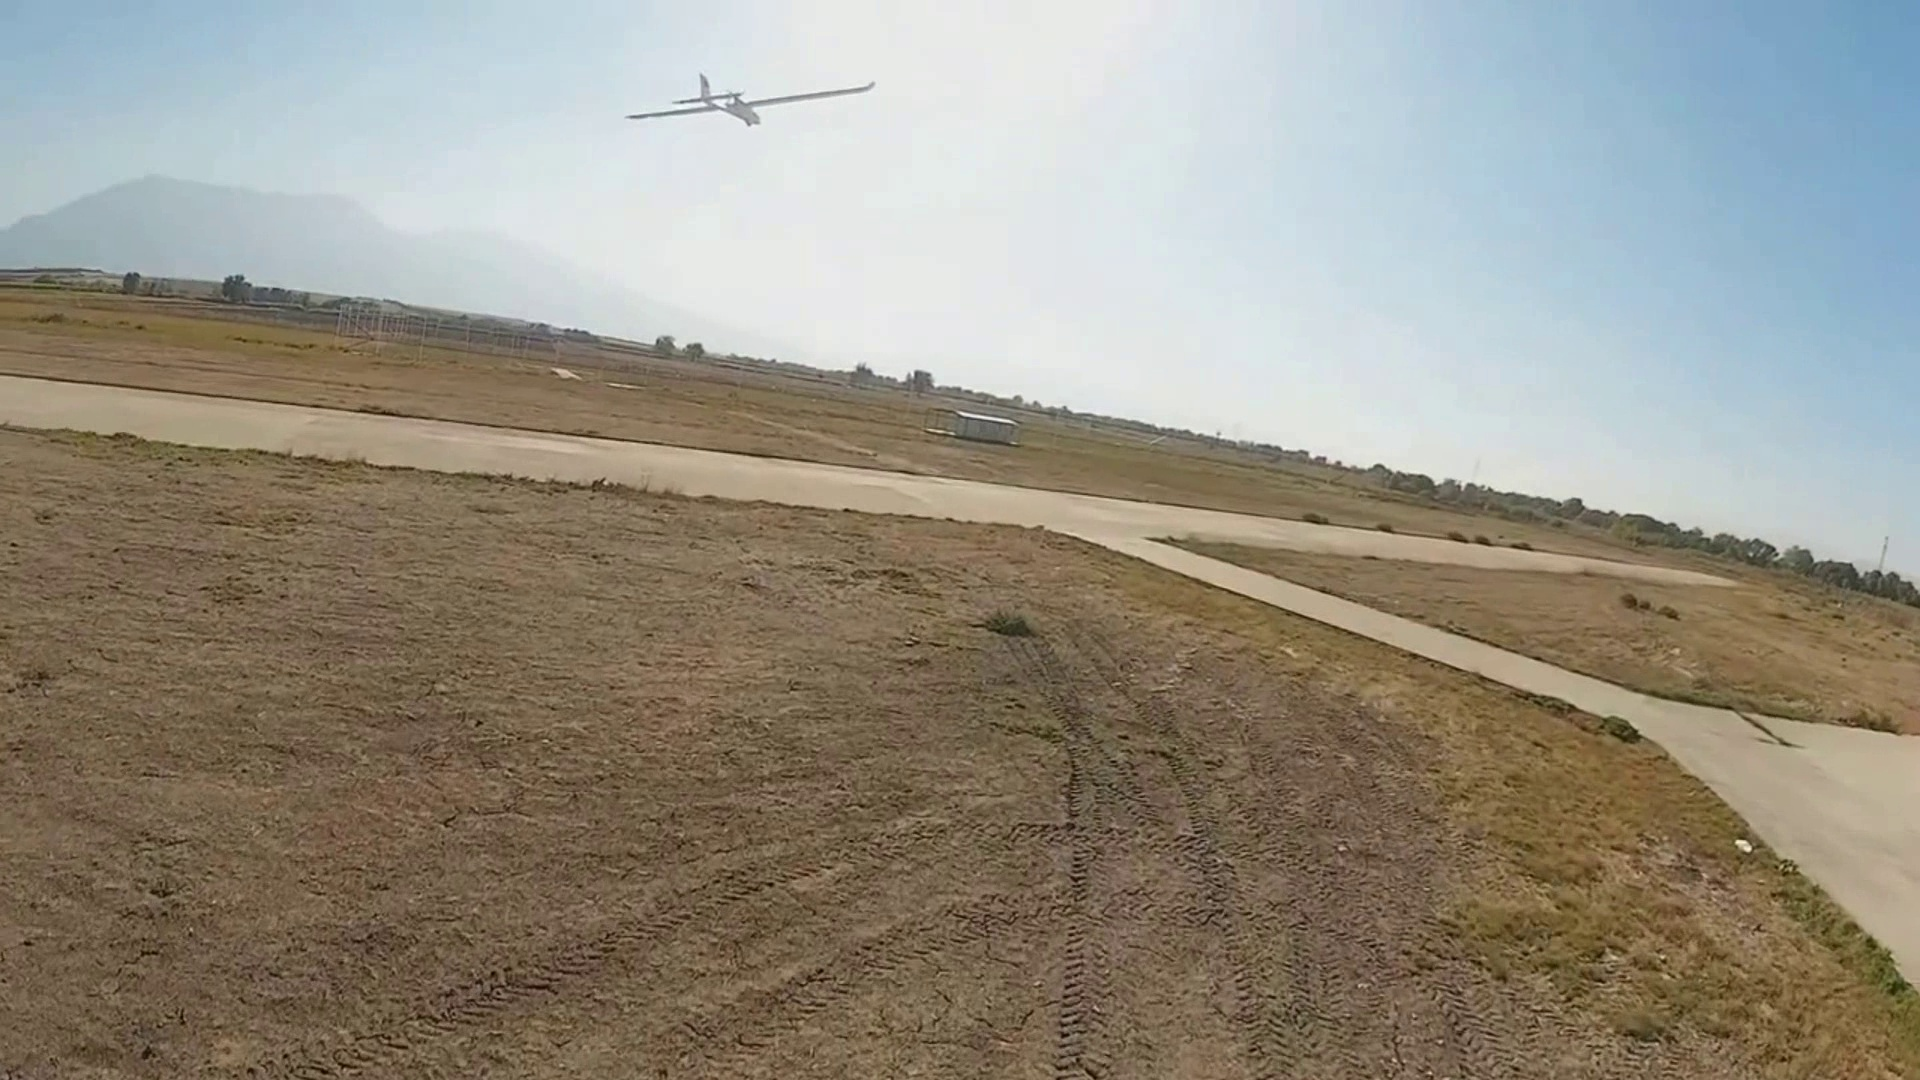airplane: (622, 73, 877, 128)
